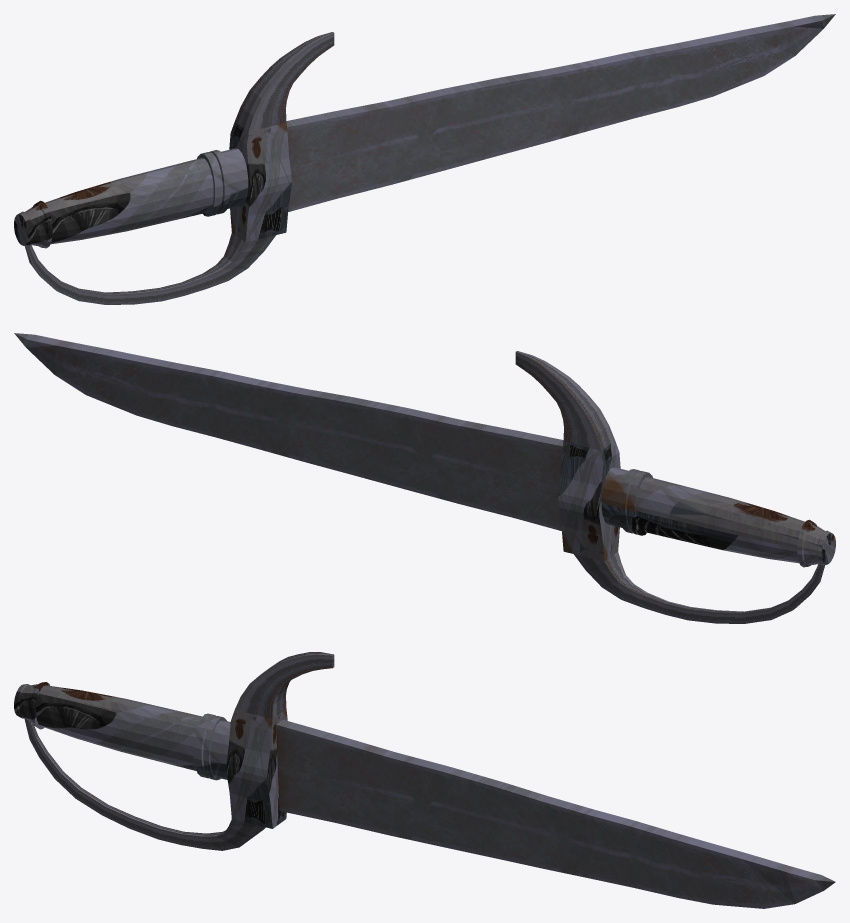
File: Mesh_Wepaon_4_0_R.FBX
3 renders of one model, top to bottom at view 1: azimuth 30°, elevation 25°; view 2: azimuth 150°, elevation 25°; view 3: azimuth 330°, elevation 25°, orthographic.
Parts seen in each view (by area): view 1: Mesh_Wepaon_4_0_R; view 2: Mesh_Wepaon_4_0_R; view 3: Mesh_Wepaon_4_0_R.
Boxes of the visible parts, left/top/right/bottom form: Mesh_Wepaon_4_0_R: left=14, top=14, right=835, bottom=304; Mesh_Wepaon_4_0_R: left=14, top=333, right=835, bottom=623; Mesh_Wepaon_4_0_R: left=14, top=652, right=835, bottom=908.
Size of the model in its own units: 79.85 by 21.13 by 4.14.
